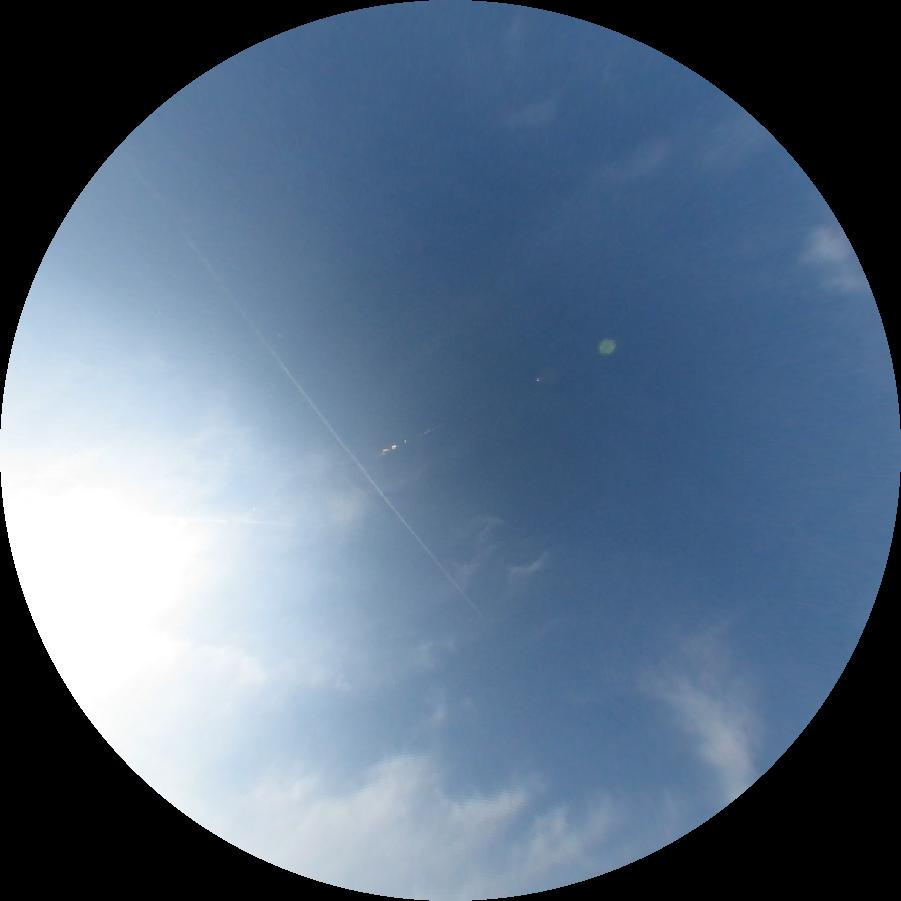contrail young: (119, 143, 486, 619)
parasite: (193, 517, 285, 526)
sun: (1, 450, 202, 706)
